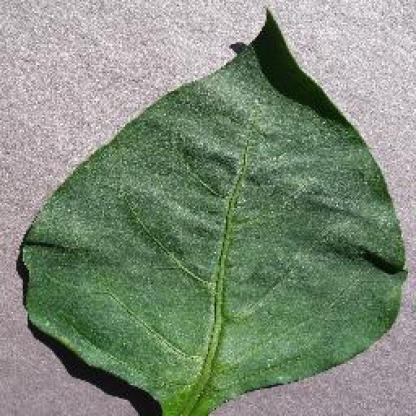bad leaf: (10, 27, 414, 414)
